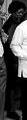boots: (6, 111, 21, 119)
hard-hat: (1, 0, 1, 0)
ppe-suit: (0, 0, 1, 1)
